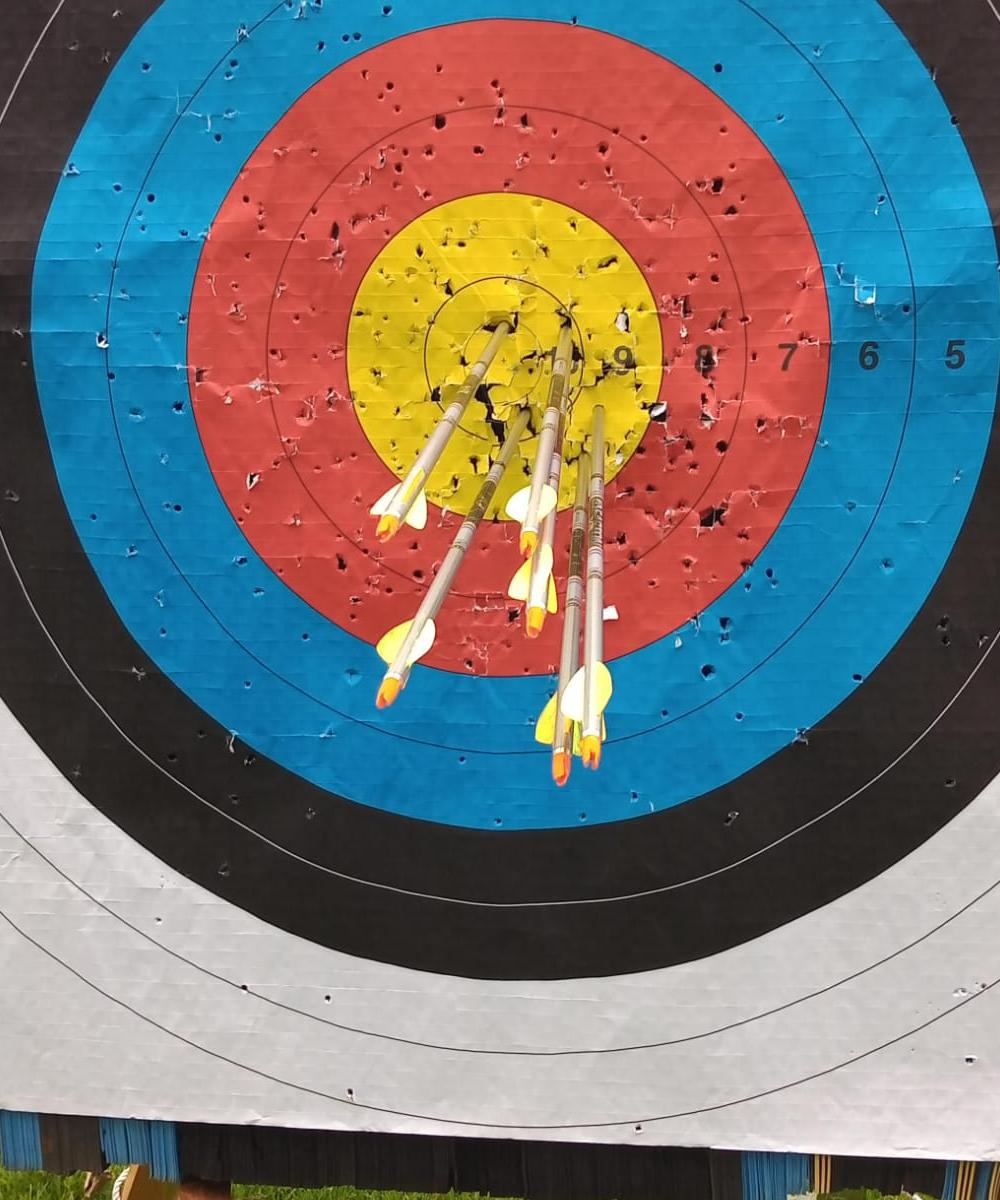10-Ring: (426, 280, 581, 441)
4-Ring: (0, 0, 1000, 903)
5-Ring: (32, 0, 1000, 826)
6-Ring: (109, 0, 915, 753)
7-Ring: (187, 16, 829, 677)
8-Ring: (234, 77, 779, 632)
9-Ring: (347, 191, 663, 522)
Arrow: (347, 406, 566, 716), (358, 310, 535, 558), (493, 324, 606, 562), (506, 337, 574, 640), (561, 405, 613, 770), (535, 451, 591, 787)
